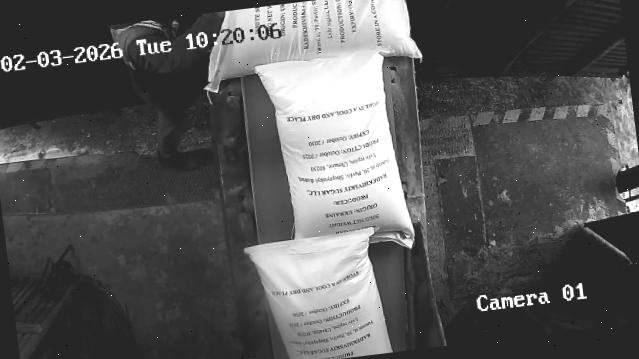bag: (254, 48, 417, 265), (195, 0, 423, 93), (242, 225, 392, 359)
